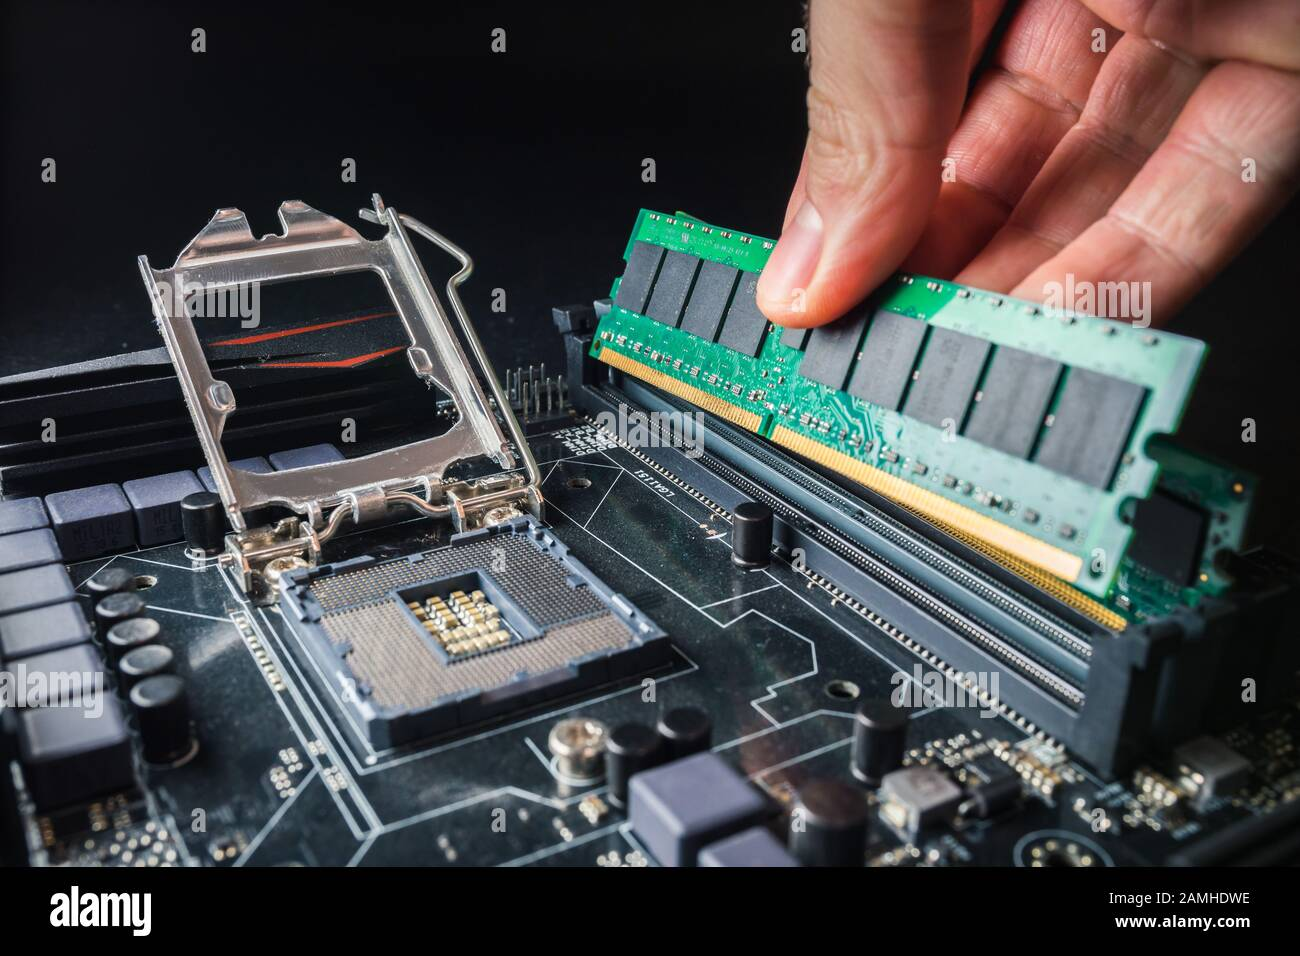ram: (591, 208, 1207, 600)
